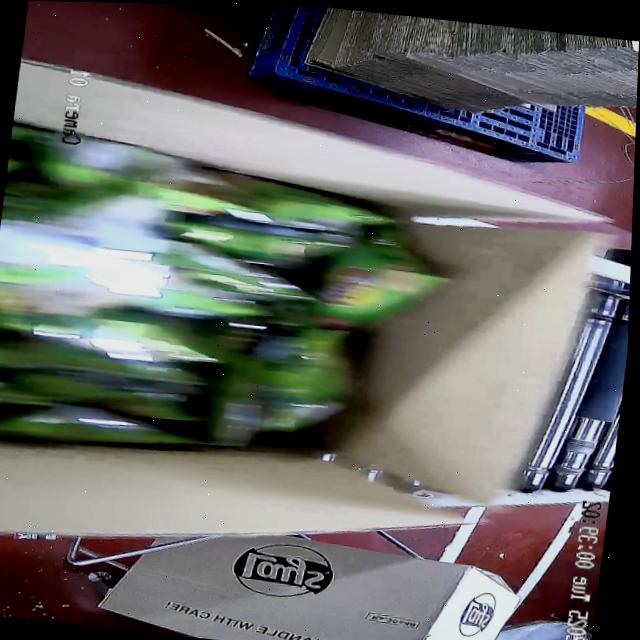YOGURT_HERB: (0, 137, 418, 472)
